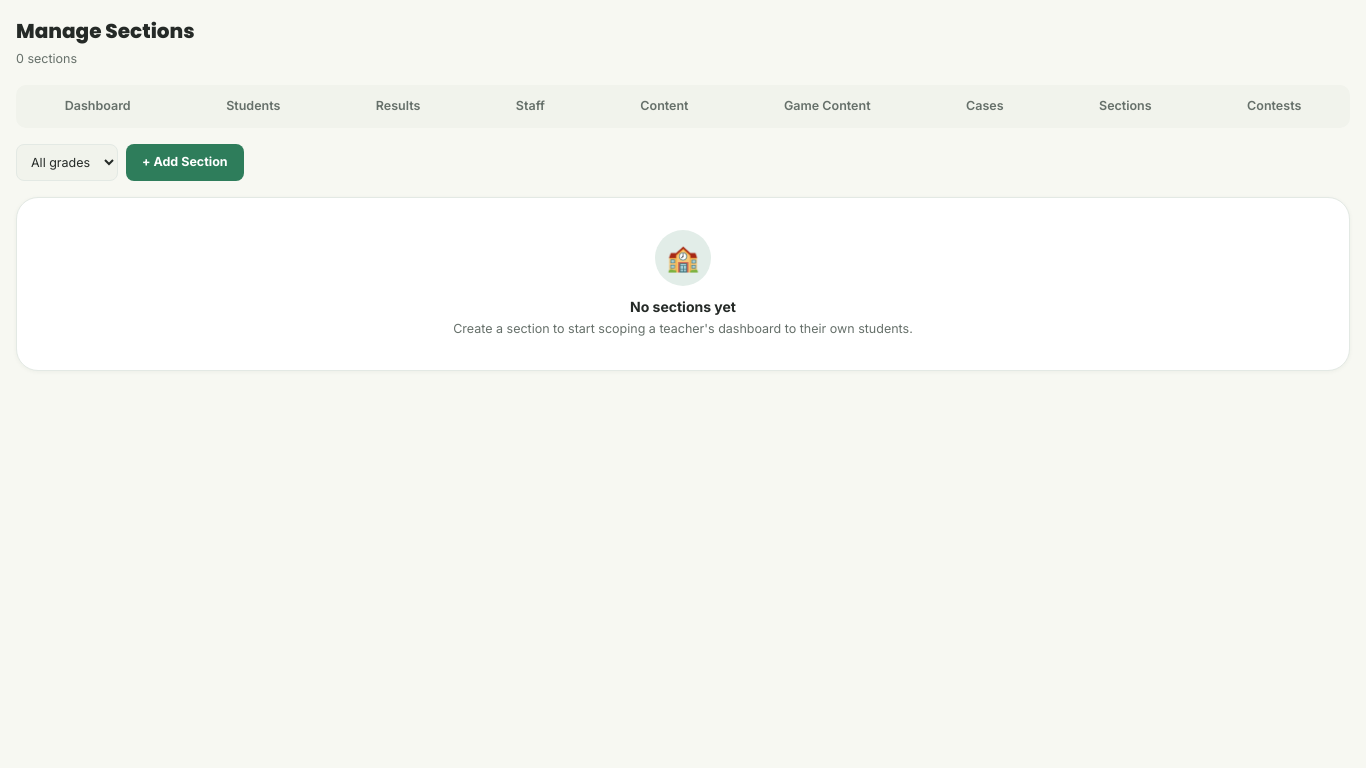
Test: AdminSections › shows the API error inside the modal when save fails, and keeps it open
Expected: the text "No sections yet" is shown, [630, 298, 736, 314]
Click the button "+ Add Section": (185, 162) [126, 144, 244, 180]
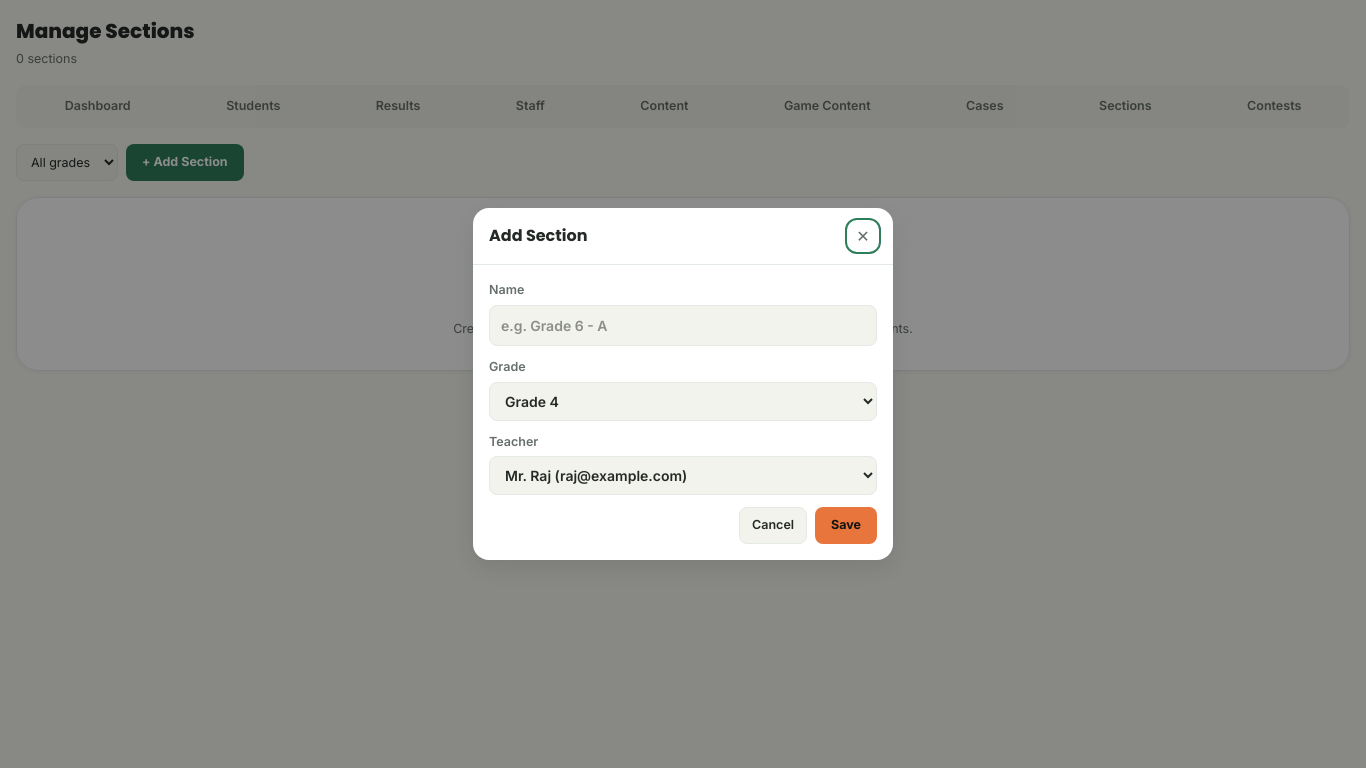
In the field labelled "Name": (683, 325) [489, 305, 877, 346], type "Grade 8 - B"
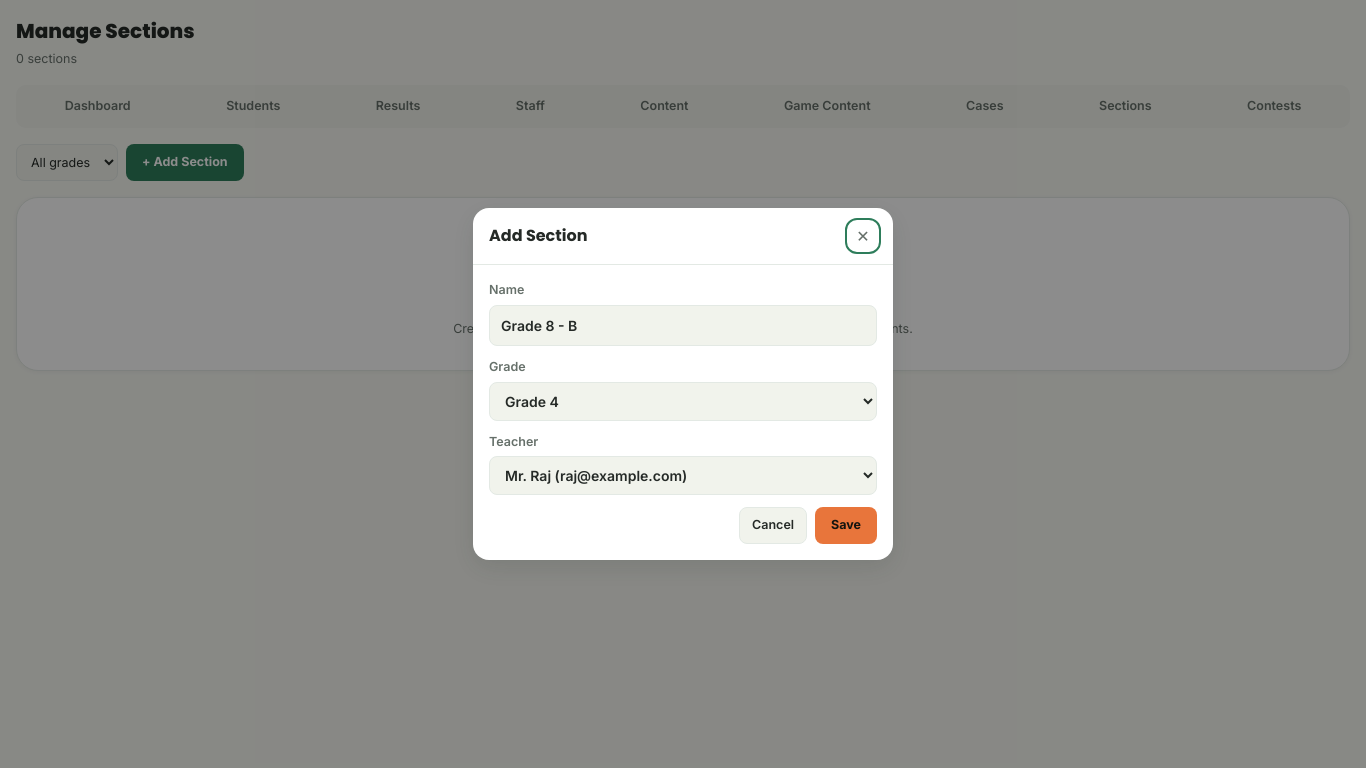
Click the button "Save": (846, 526) [815, 507, 877, 544]
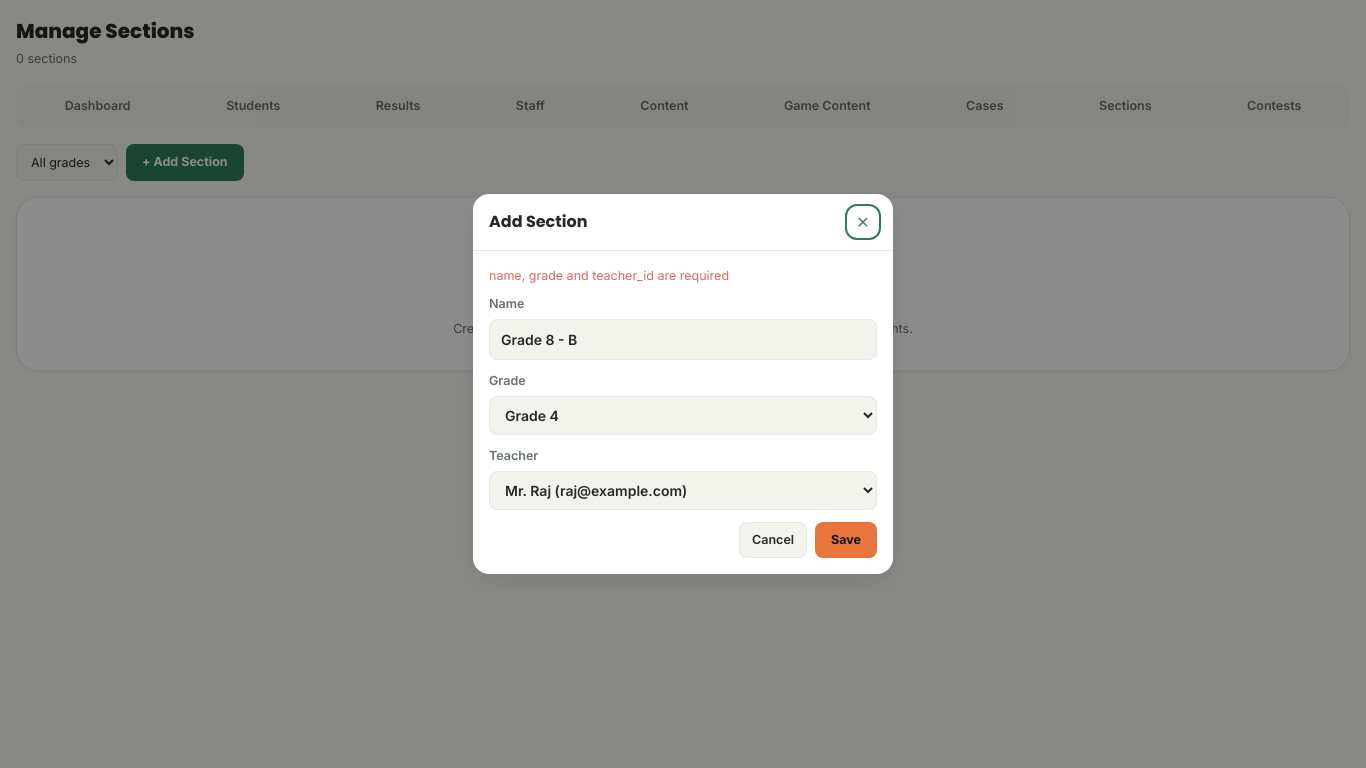
Now the text "Add Section" is shown, box [489, 210, 588, 234]
Now the text "name, grade and teacher_id are required" is shown, box [489, 268, 729, 283]
